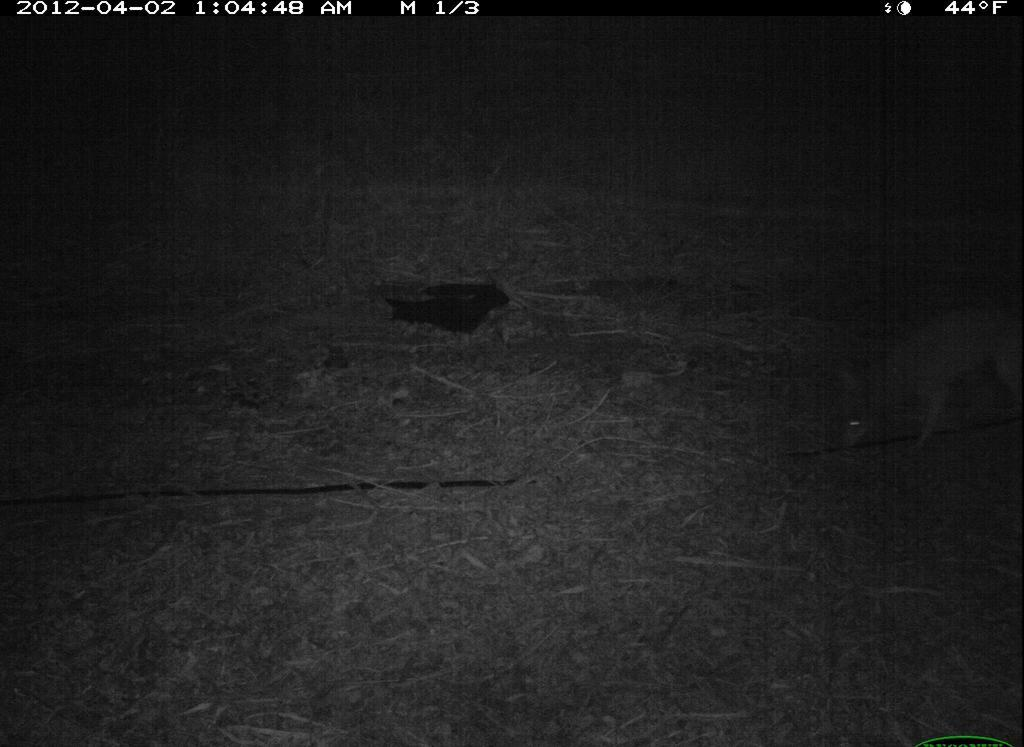coyote: (831, 291, 1022, 474)
